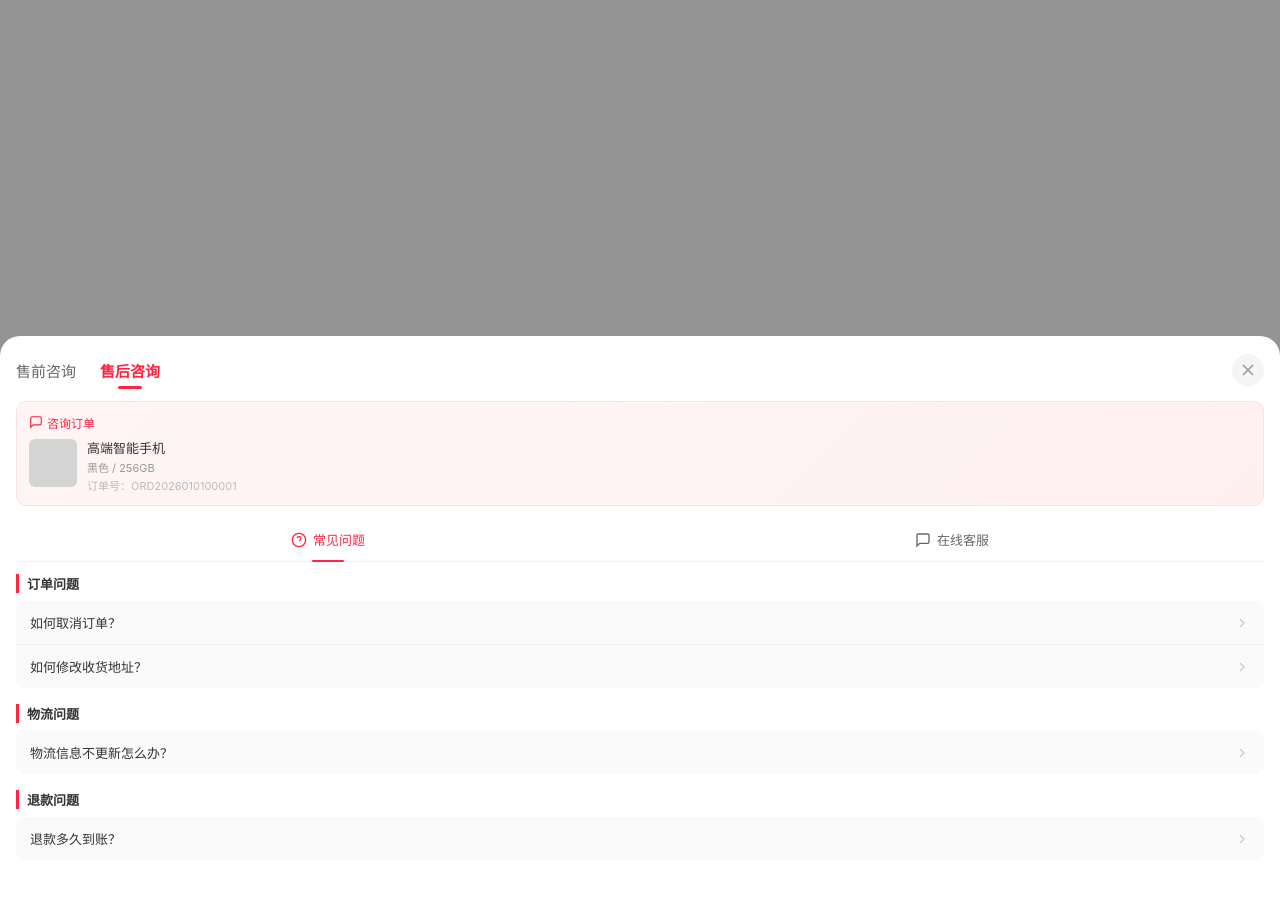
Test: CsServicePanel 联系客服入口 › 聊天模式 › 应正确渲染快捷操作按钮(售后-服务)
Click the element with class "cs-tabs-bar__item" showing "在线客服" at (952,540), box [915, 532, 989, 548]
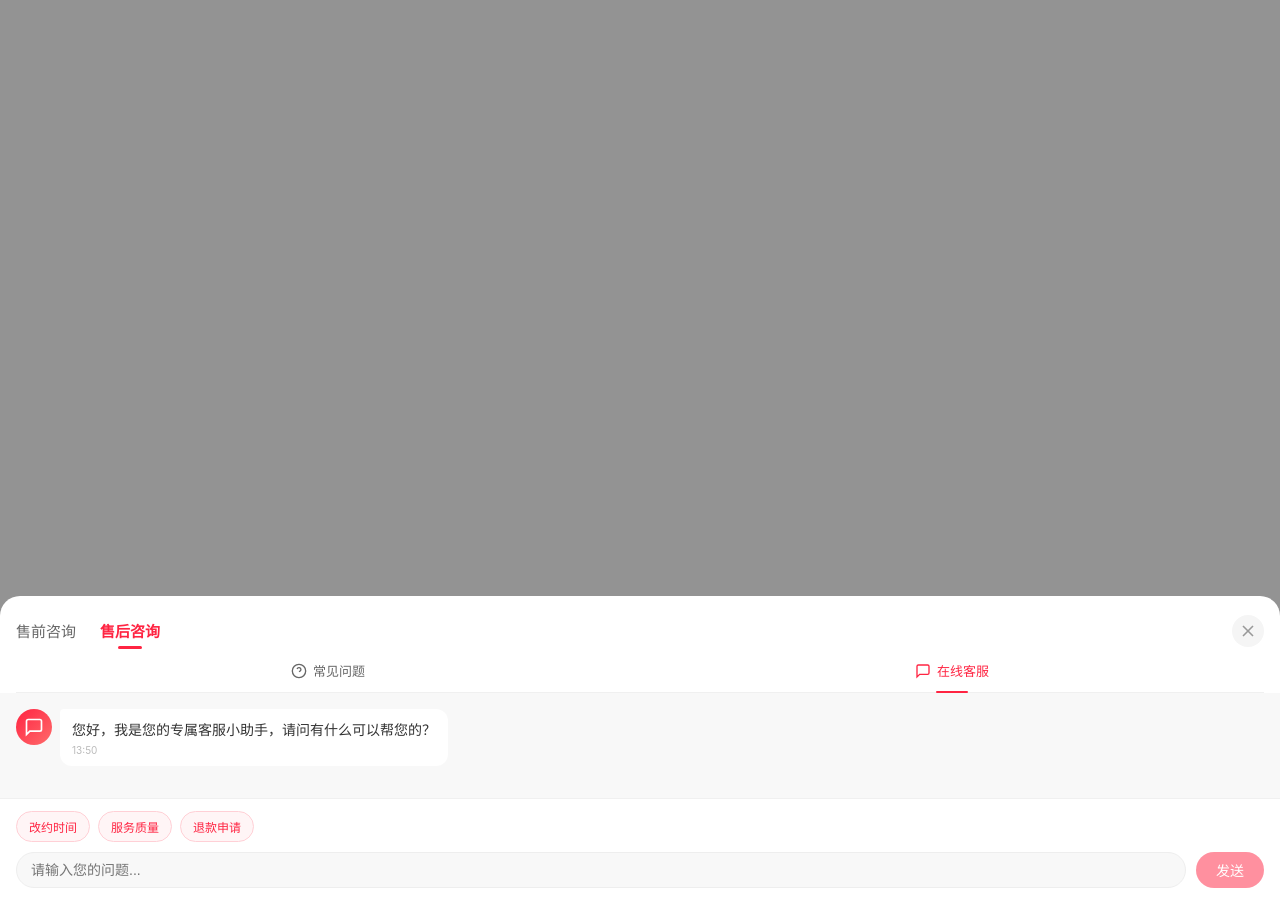
Result: the button "改约时间" is shown at [16, 811, 90, 842]
Result: the button "服务质量" is shown at [98, 811, 172, 842]
Result: the button "退款申请" is shown at [180, 811, 254, 842]
